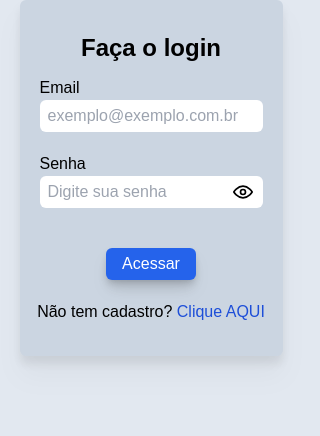
Test: Login › deve exibir mensagens de erro quando os campos estão inválidos
The width and height of the screenshot is (320, 436).
What coordinates should you click on to do the following:
click the button "Acessar"
I would click on:
 (151, 264)
Its box is [106,248,196,280].
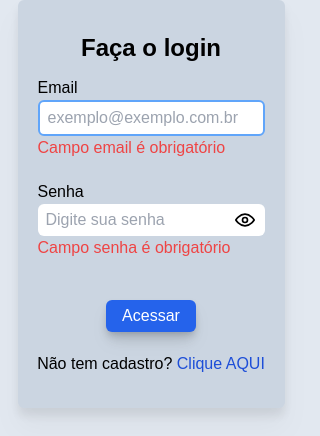
expect the text "Campo email é obrigatório" is shown: met, box [38,139,225,156]
expect the text "Campo senha é obrigatório" is shown: met, box [38,239,230,256]
